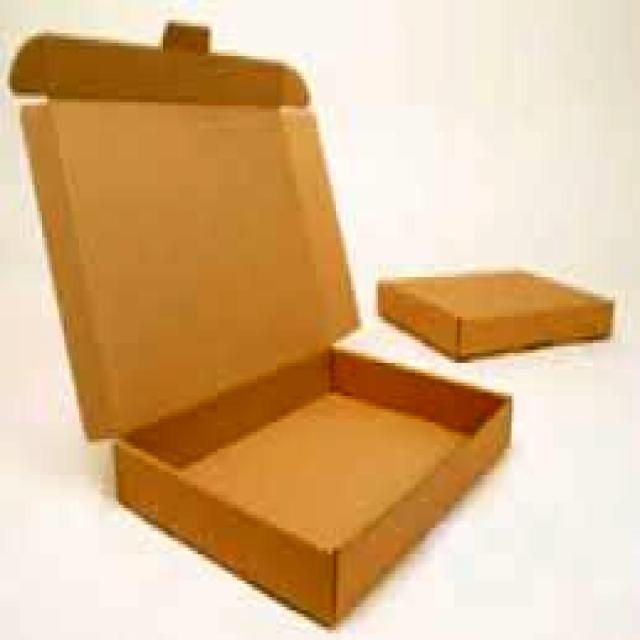Cardboard: (9, 29, 520, 636), (375, 263, 615, 368)
